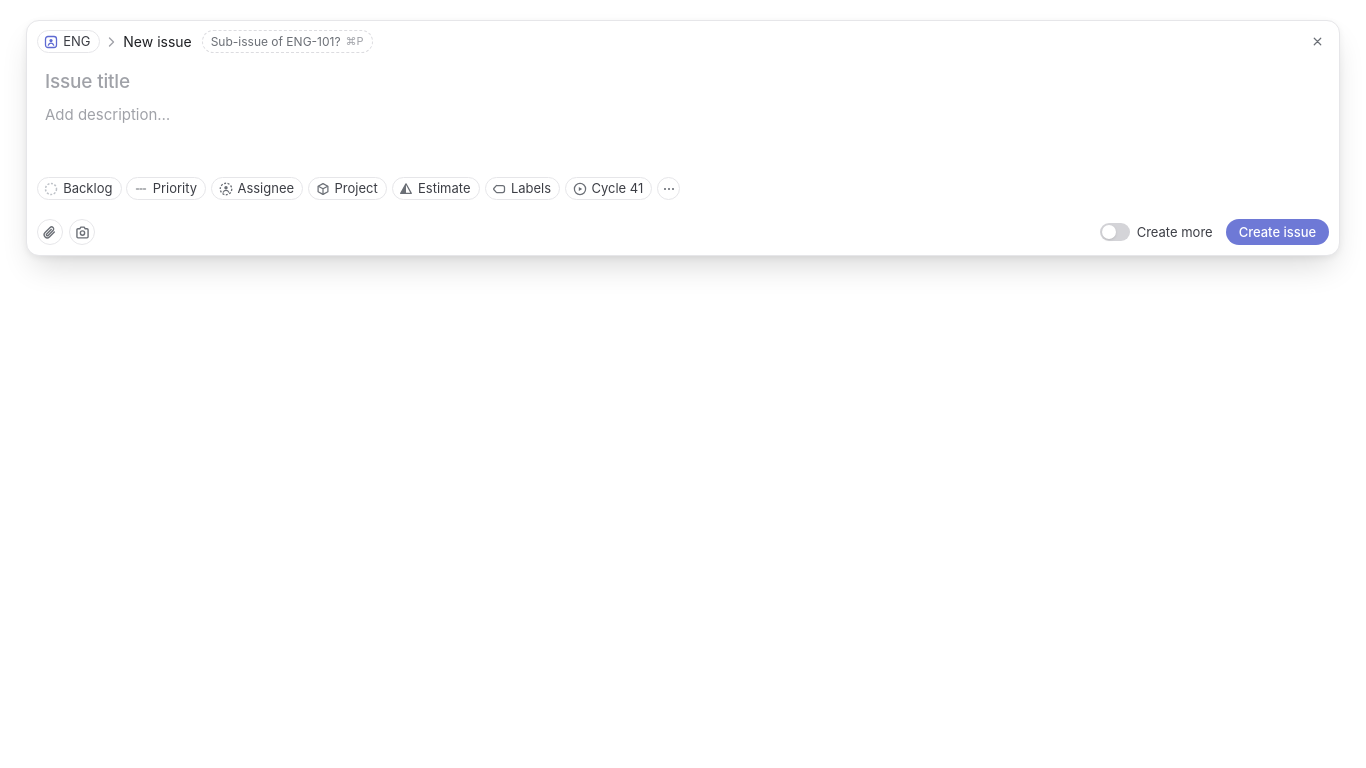
Test: App › "…" menu then Due date -> due date picker opens in its place, and the chip appears
expect the text "Due date" is not shown: met
Click the button named "More fields". click: {"x": 669, "y": 188}
box: [657,177,680,200]
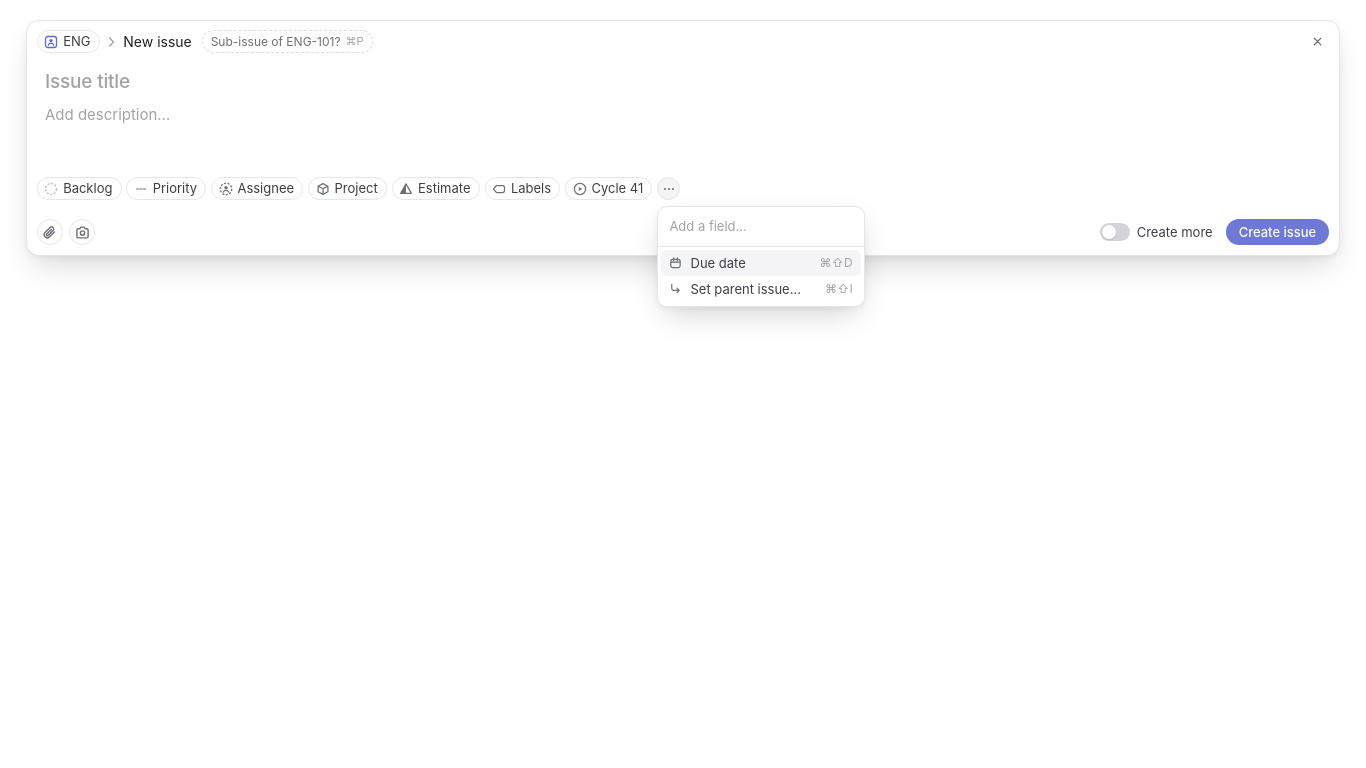
Click the text "Due date". click: {"x": 718, "y": 262}
box: [690,254,746,270]
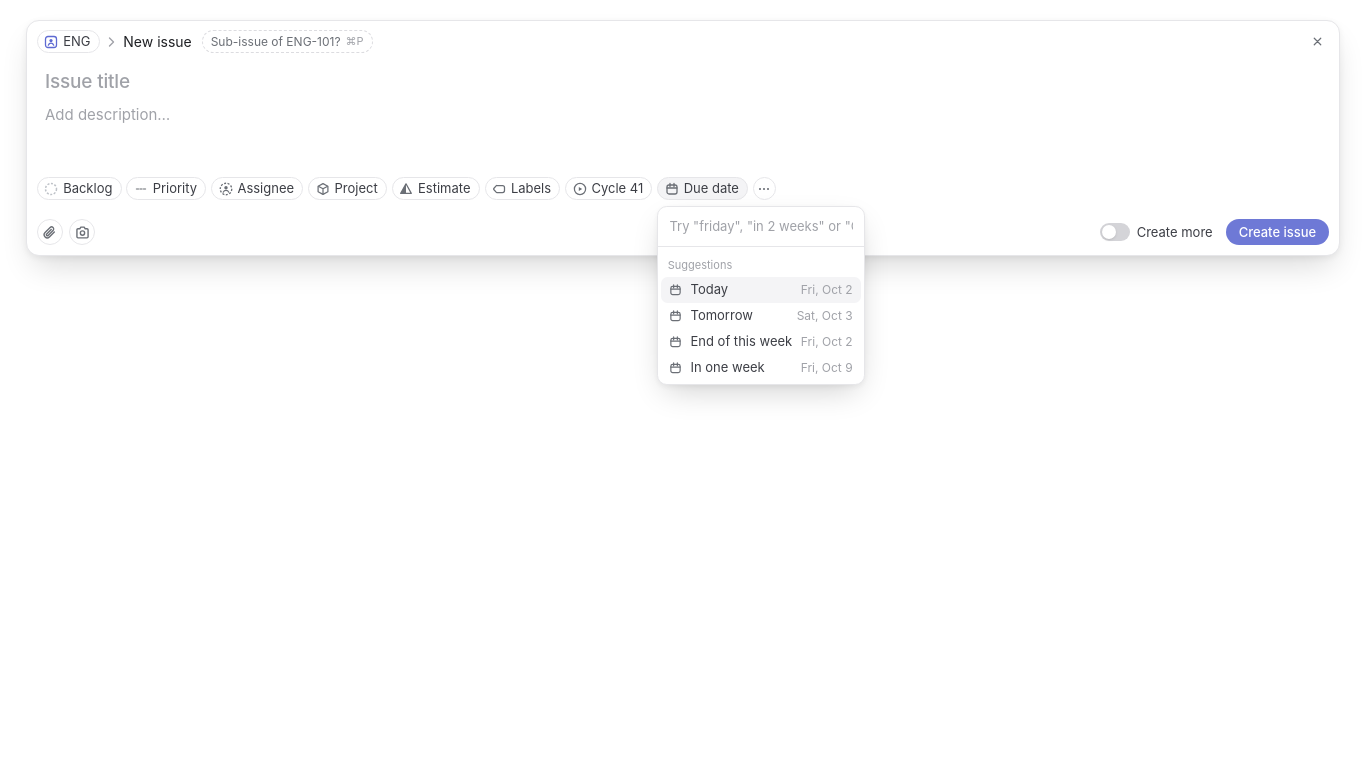
expect the dialog with test id "picker-dueDate-popover" is shown: met, box [657,206,865,385]
expect the dialog with test id "picker-more-popover" is gone: met
